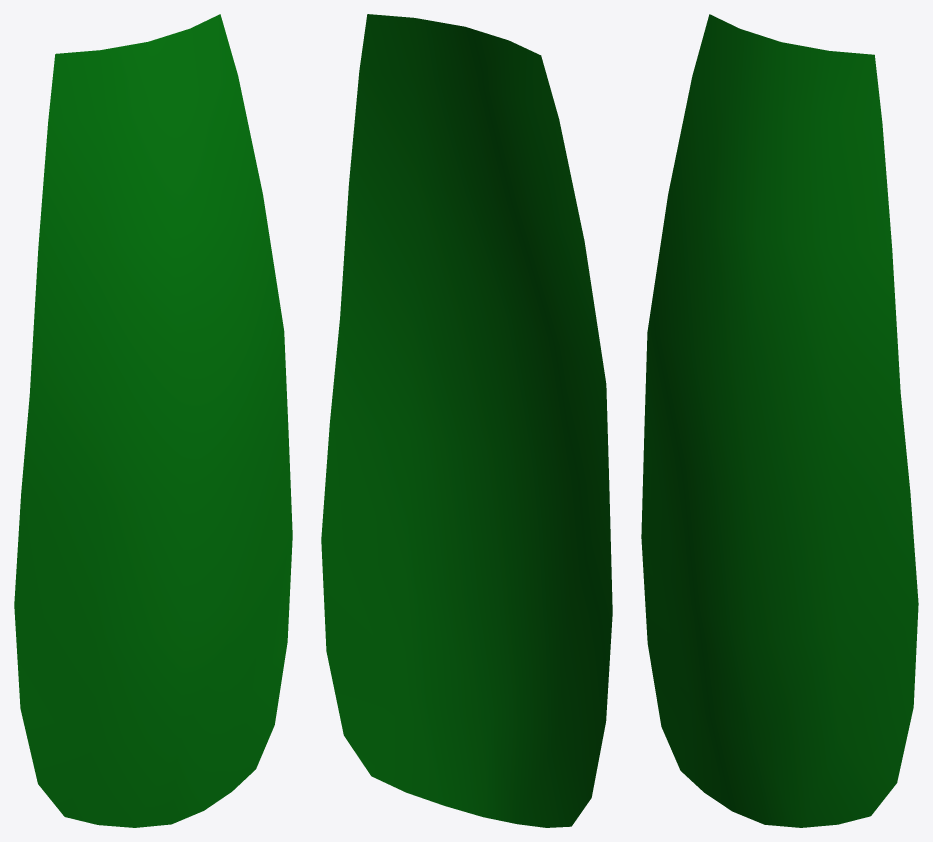
Rendered from MD_nail_square_HandL.Ring.fbx.
3 views of the same model, side by side, from view 1: azimuth 30°, elevation 25°; view 2: azimuth 150°, elevation 25°; view 3: azimuth 330°, elevation 25° (orthographic). The views are drawn at different scales.
Visible parts, largest first — view 1: MD_nail_square_HandL.Ring; view 2: MD_nail_square_HandL.Ring; view 3: MD_nail_square_HandL.Ring.
Part boxes in pixels (left/top/right/bottom): MD_nail_square_HandL.Ring: left=14, top=14, right=292, bottom=827; MD_nail_square_HandL.Ring: left=321, top=14, right=612, bottom=827; MD_nail_square_HandL.Ring: left=641, top=14, right=918, bottom=827.
Size of the model in its own units: 0.7183 by 1.9 by 0.1981.
